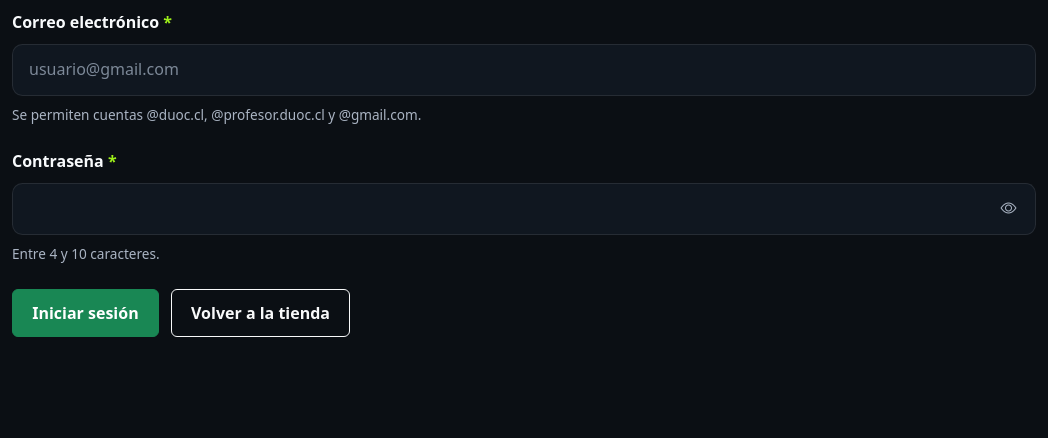
Test case: LoginForm › muestra un rechazo del servicio y permite corregir las credenciales
Type "camila@gmail.com" into the field labelled "Correo electrónico".
click(524, 70); type("camila@gmail.com")  # box [12,44,1036,96]
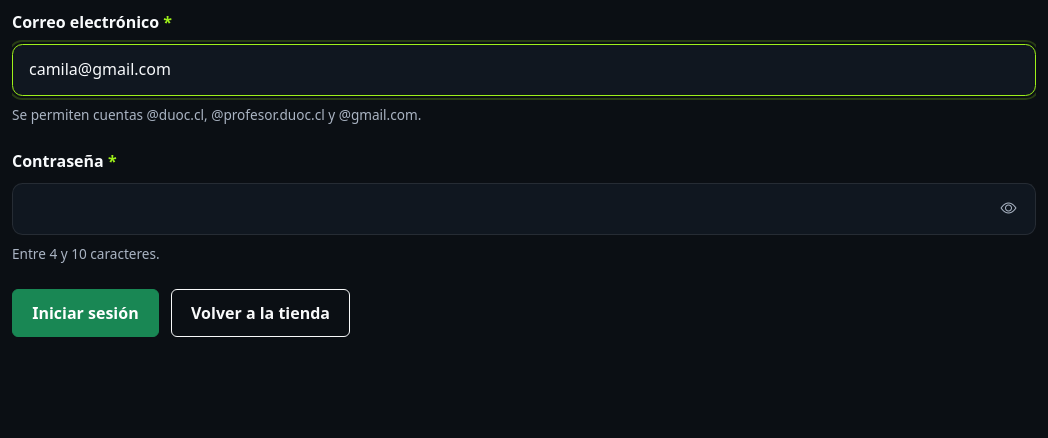
Type "1234" into the password field labelled "Contraseña *".
click(524, 209); type("1234")  # box [12,183,1036,235]
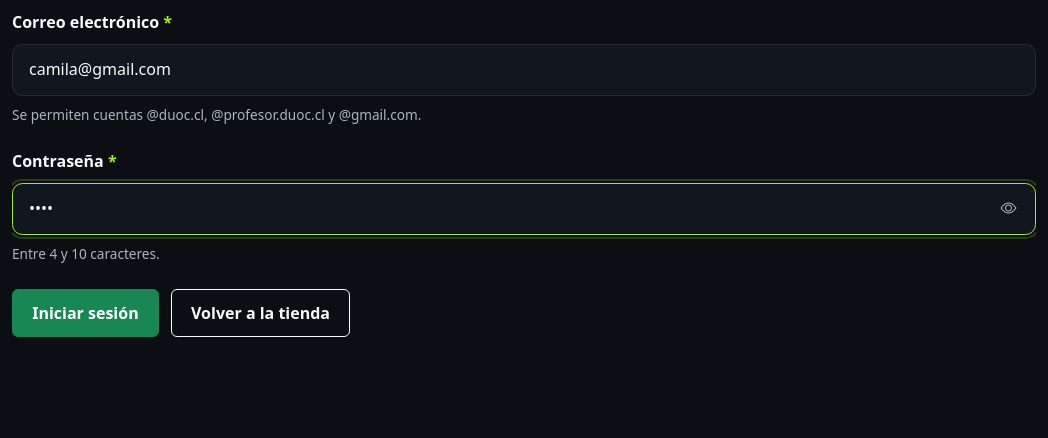
Click the button "Iniciar sesión".
click(85, 313)  # box [12,289,159,337]
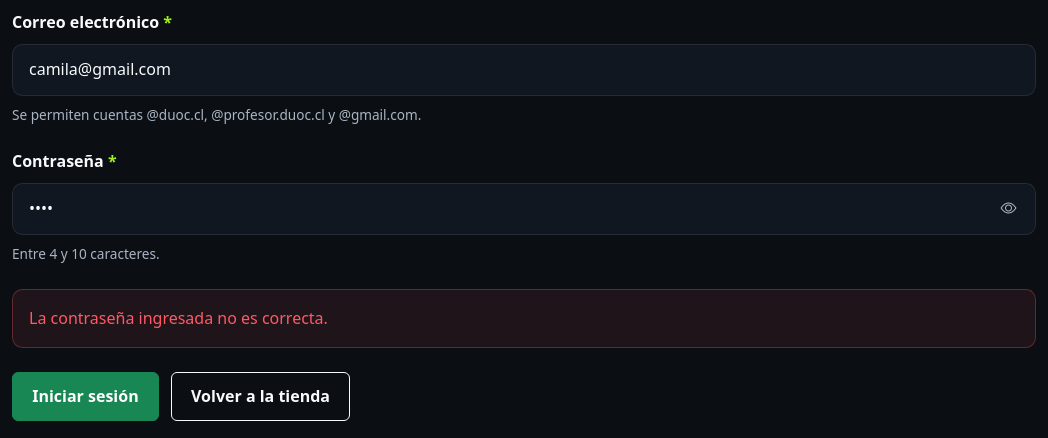
expect the message reads "La contraseña ingresada no es correcta.": met, box [29,307,328,329]
Clear the password field labelled "Contraseña *" at (524,209), box [12,183,1036,235]
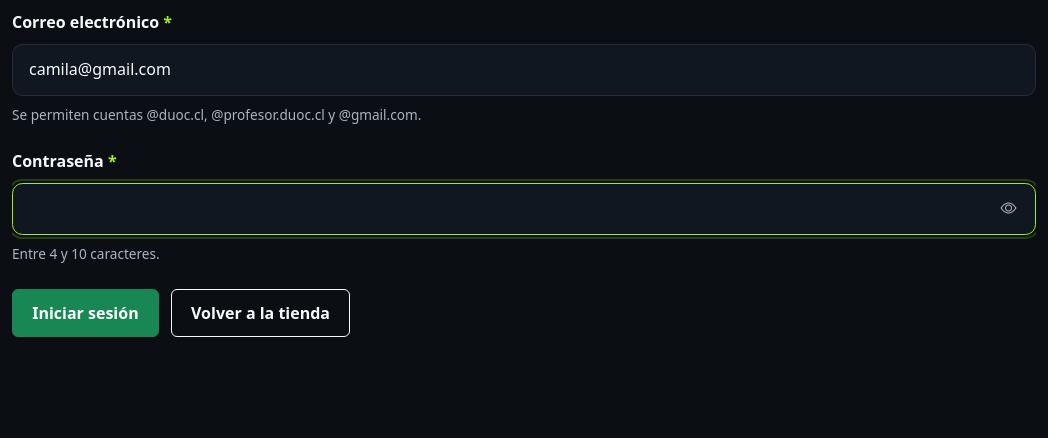
expect the message "La contraseña ingresada no es correcta." is gone: met
